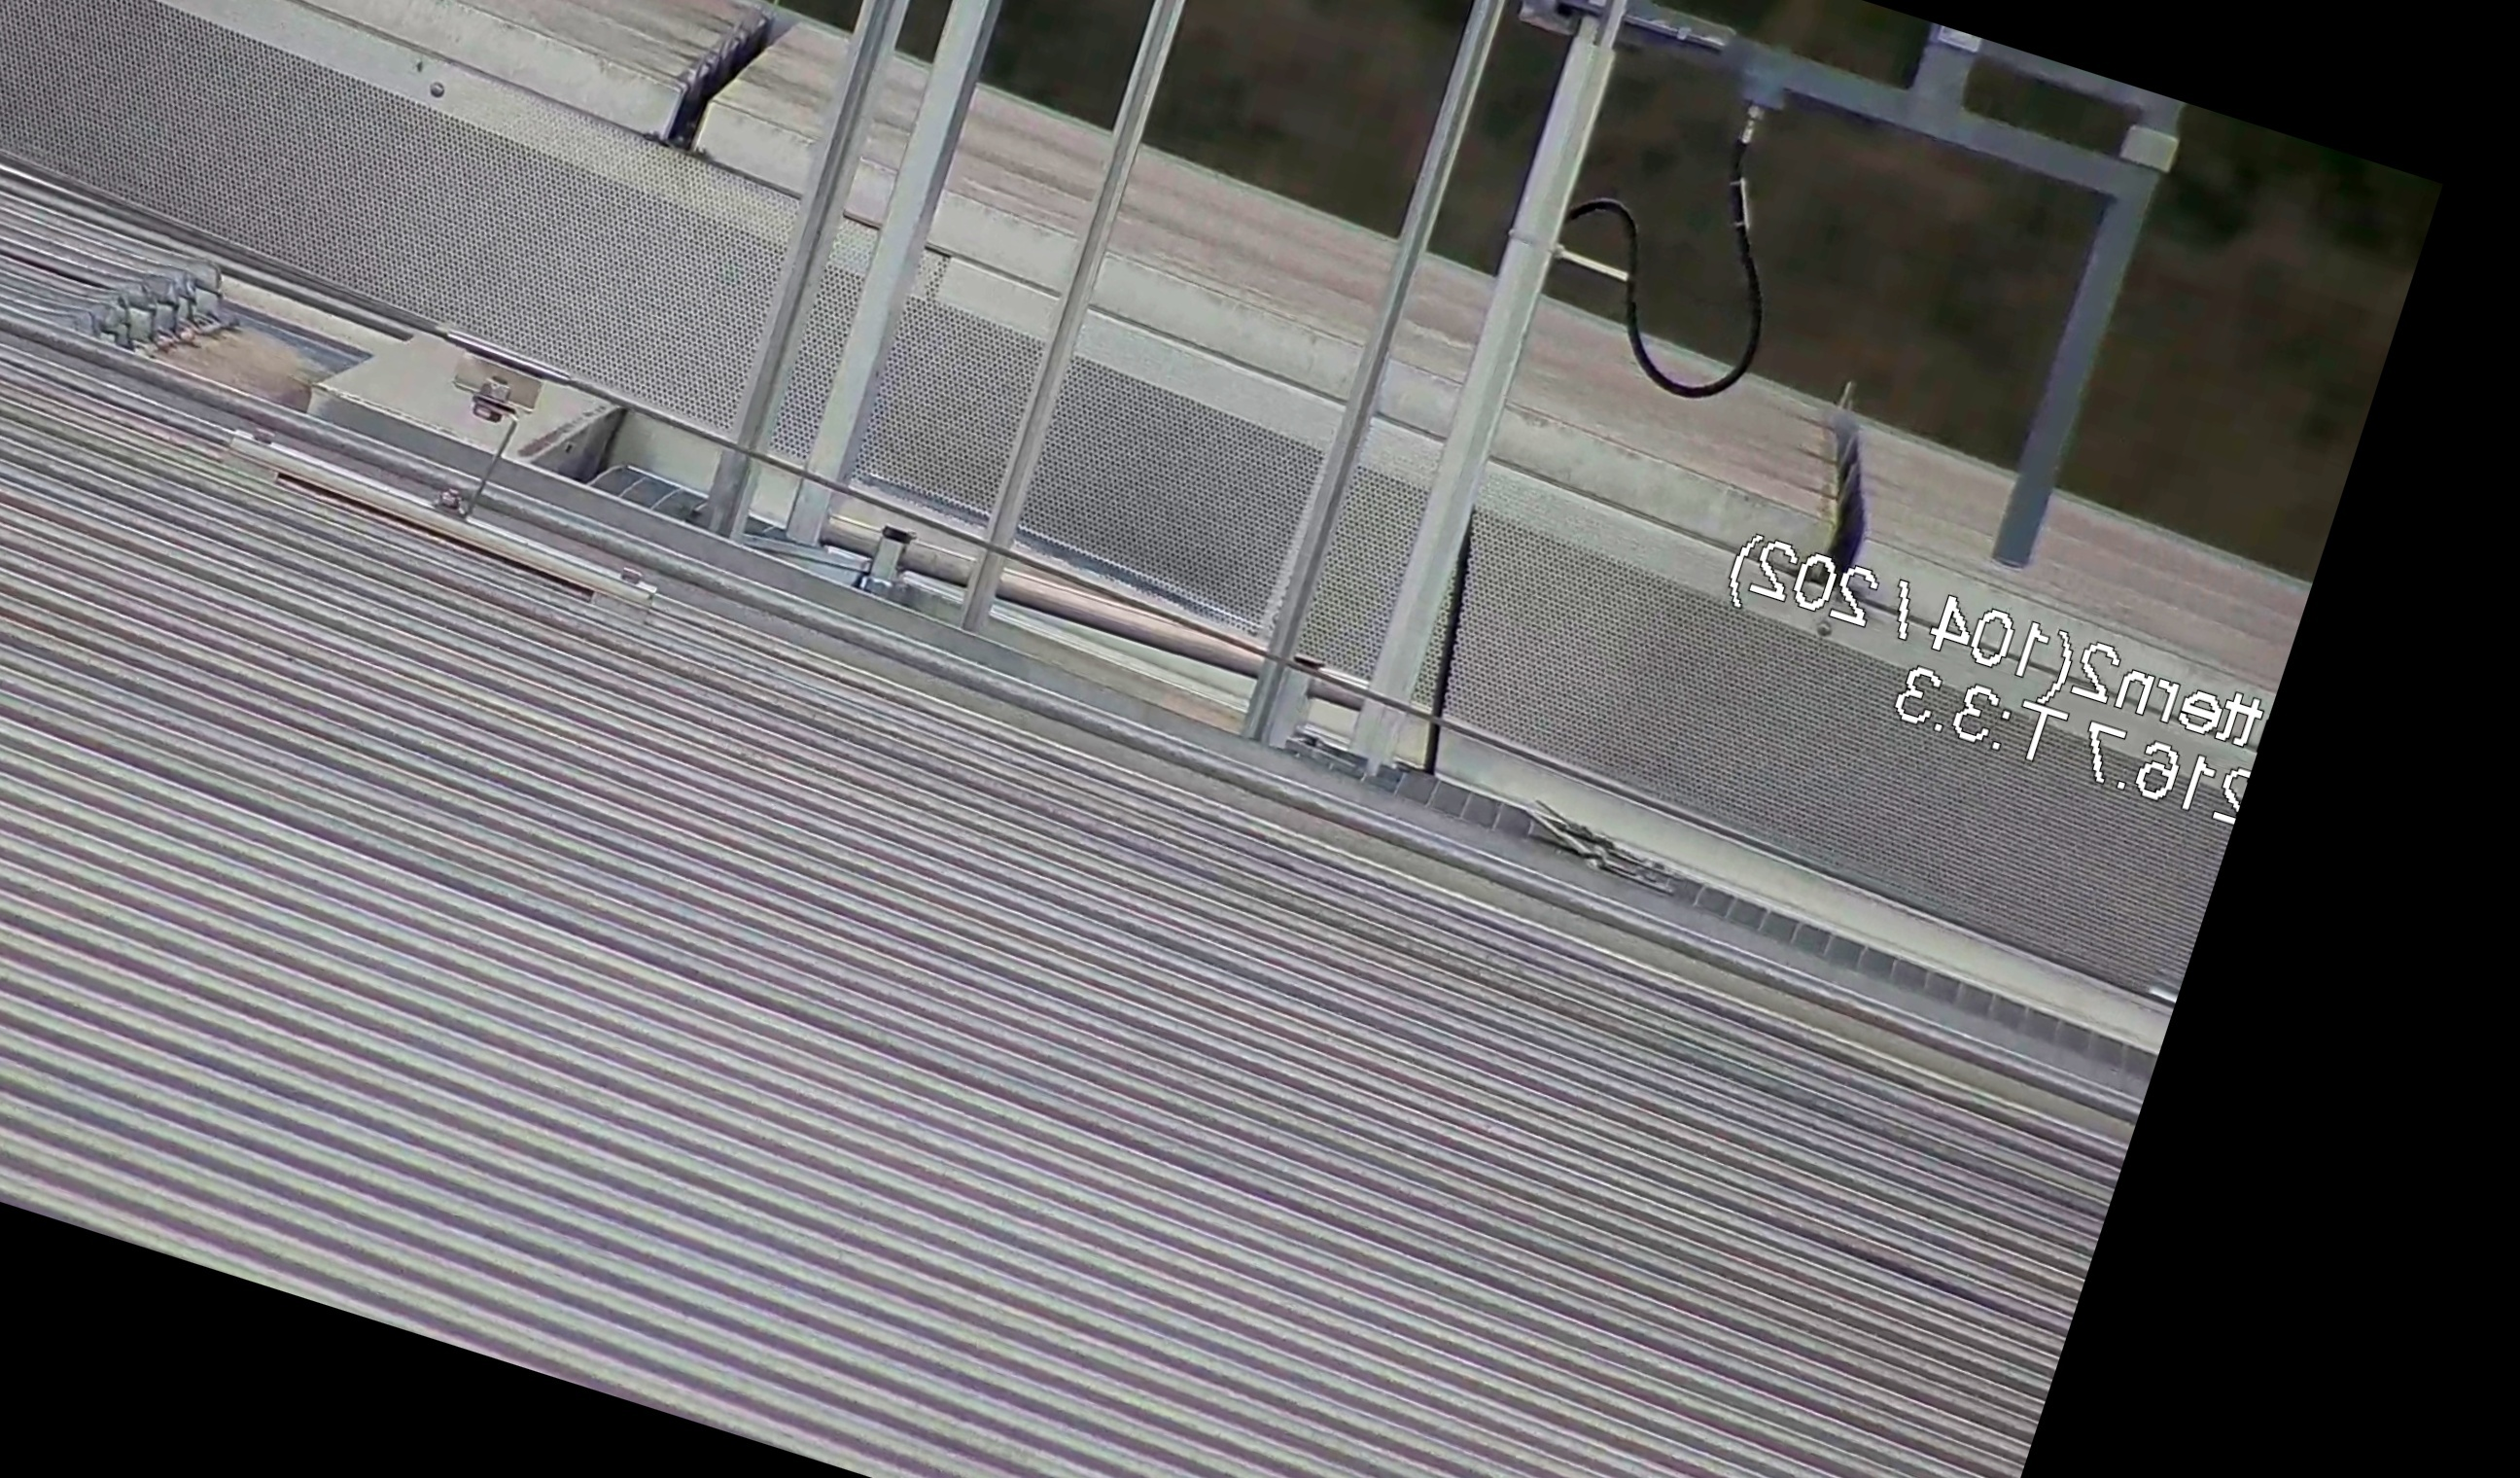Other: (633, 0, 811, 172)
